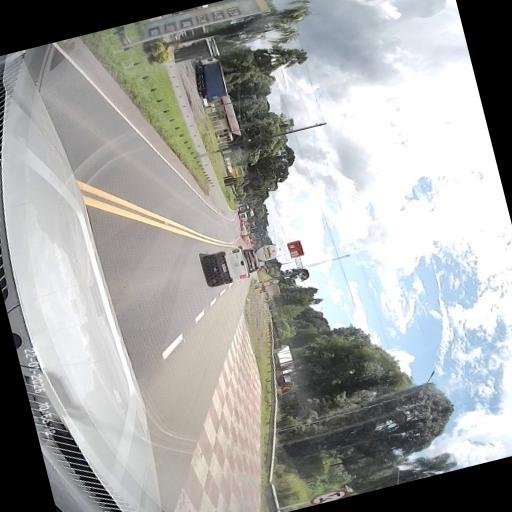R-6a: (308, 488, 348, 506)
